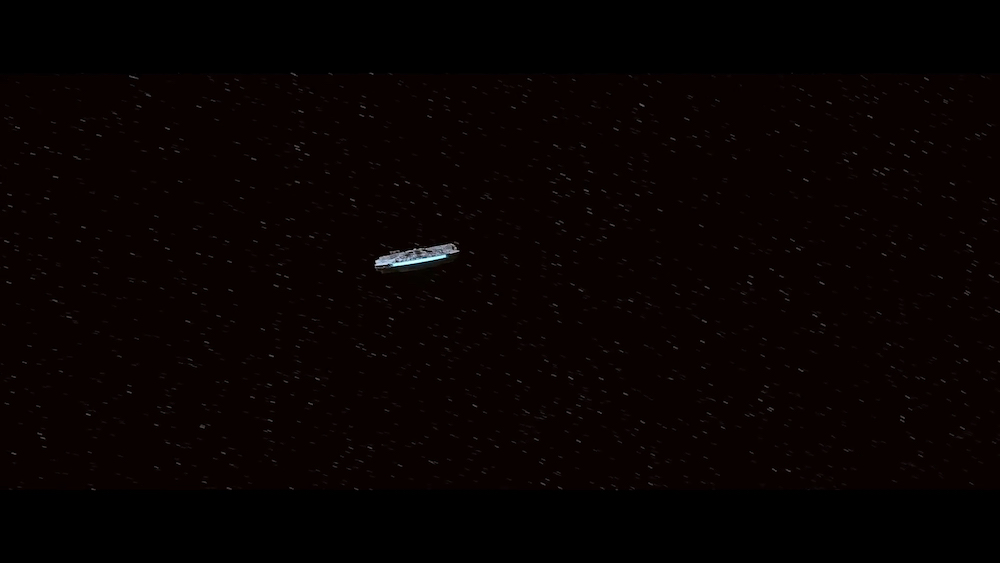Millennium Falcon: (376, 244, 461, 276)
